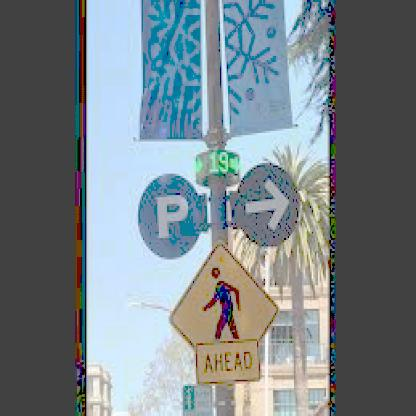Parking: (137, 168, 202, 262)
